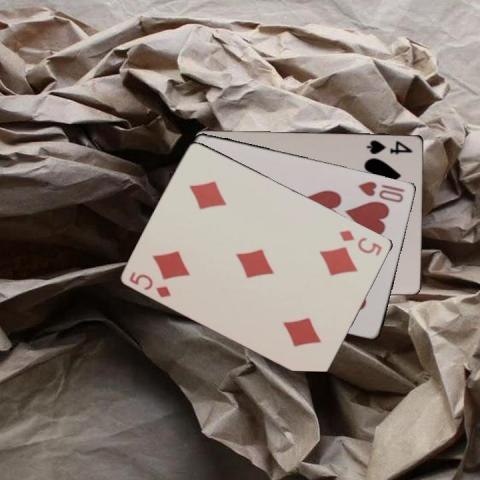10h: (355, 178, 407, 204)
4s: (364, 137, 415, 156)
5d: (126, 268, 172, 299), (337, 227, 383, 257)
